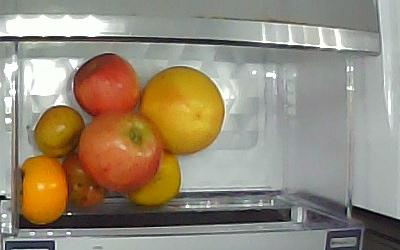apple: (79, 110, 160, 195), (74, 53, 142, 116)
grapefruit: (141, 64, 225, 156)
persimmon: (16, 157, 67, 225), (126, 147, 181, 206)
prune: (32, 104, 86, 157), (63, 156, 105, 208)
